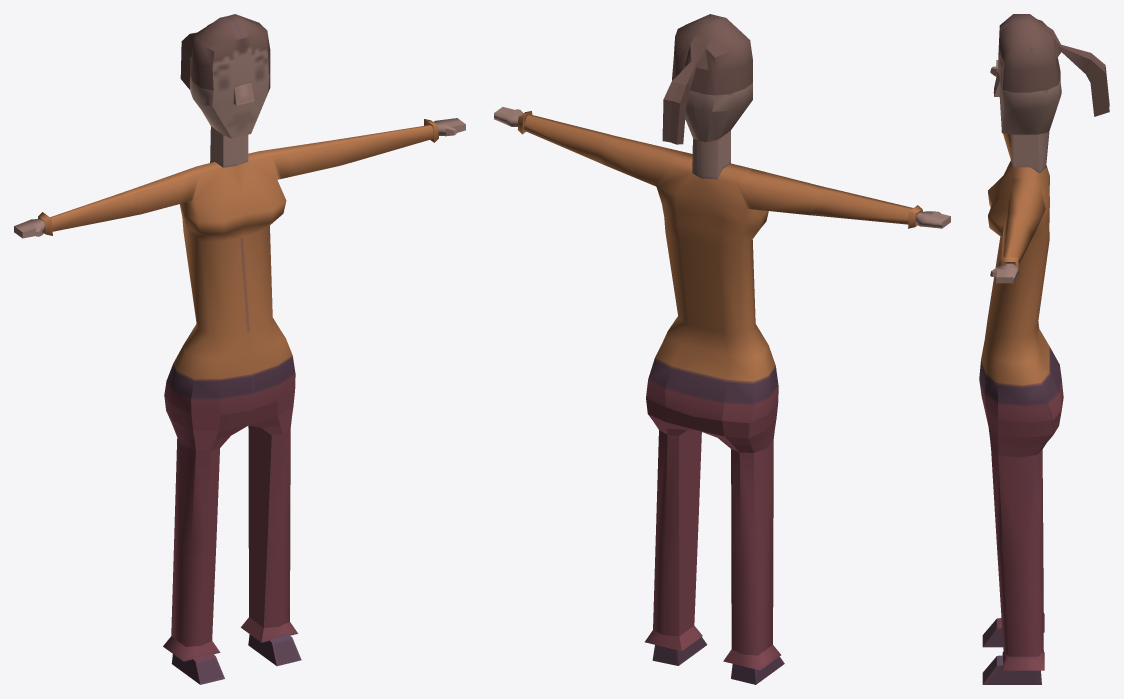
Rendered from LadyfiniT.fbx.
3 views of the same model, side by side, from view 1: azimuth 30°, elevation 25°; view 2: azimuth 150°, elevation 25°; view 3: azimuth 270°, elevation 25° (orthographic).
Parts seen in each view (by area): view 1: pCube11; view 2: pCube11; view 3: pCube11.
Part boxes in pixels (<box>): pCube11: <box>14,14,465,684</box>; pCube11: <box>494,14,950,684</box>; pCube11: <box>979,14,1109,684</box>.
Size of the model in its own units: 94.34 by 130 by 23.95.
